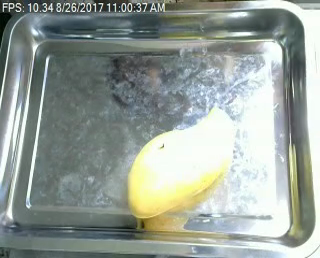Mango: (127, 102, 238, 221)
